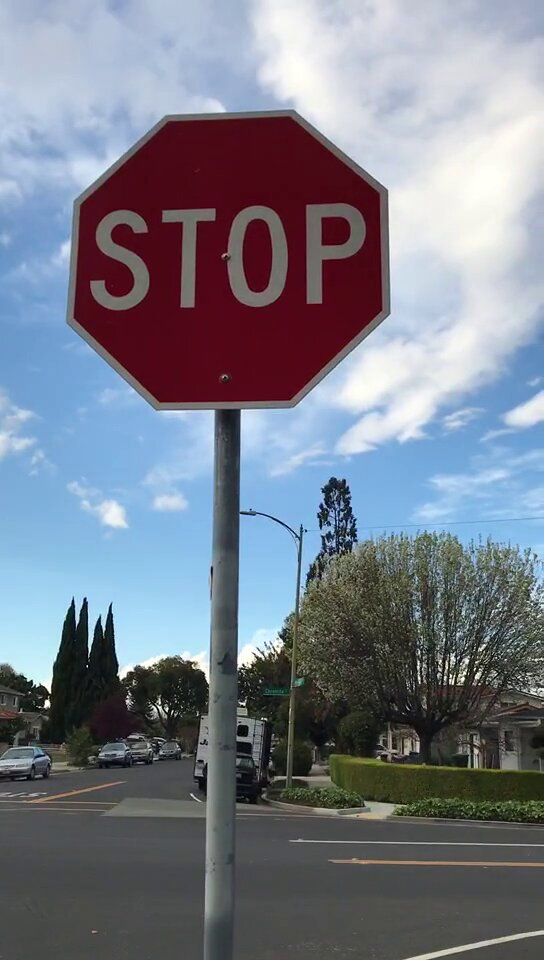stop_sign: (73, 110, 393, 412)
